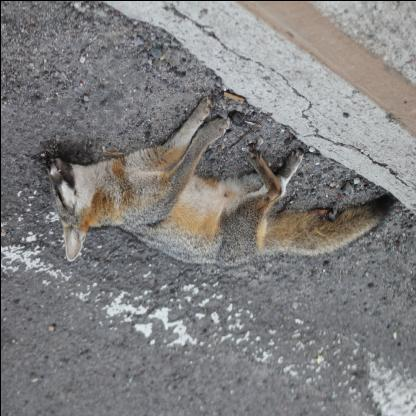zorro: (35, 96, 405, 284)
